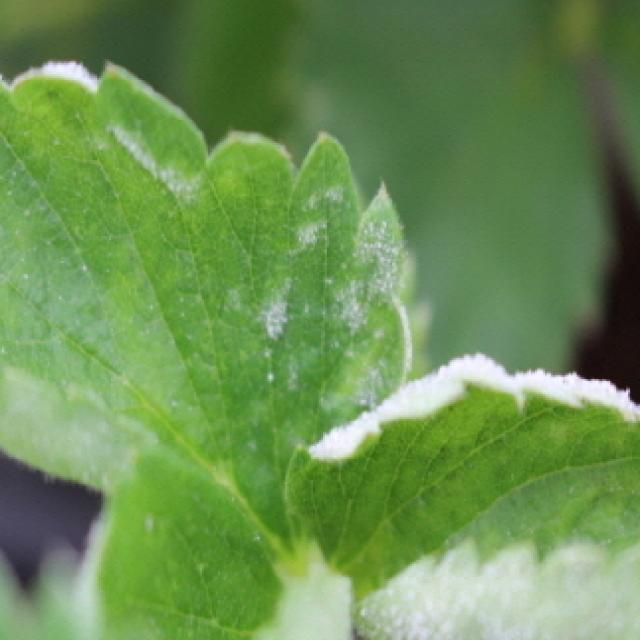Powdery Mildew Leaf: (0, 60, 412, 551), (277, 350, 640, 640), (64, 453, 358, 640)
